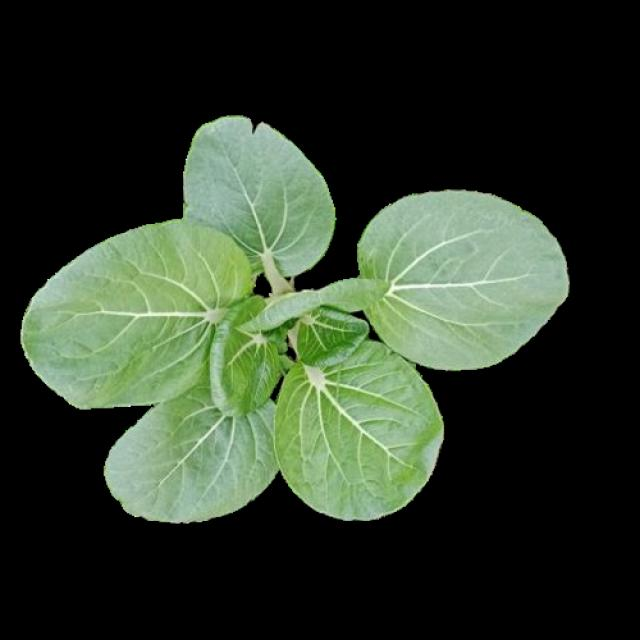not-mature: (26, 120, 563, 520)
unhealthy: (183, 116, 335, 272)
